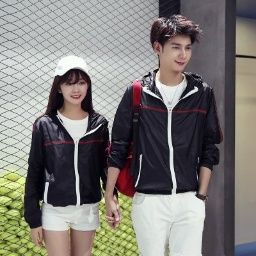face: (153, 14, 202, 74), (45, 67, 97, 114)
